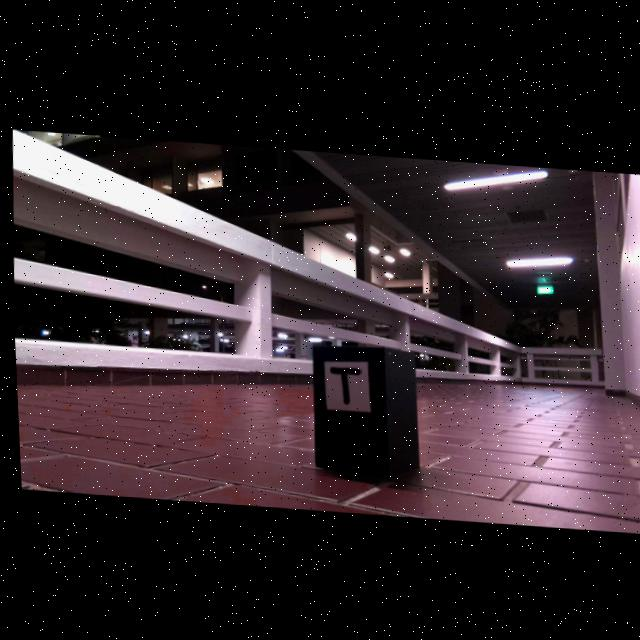T: (327, 364, 357, 402)
